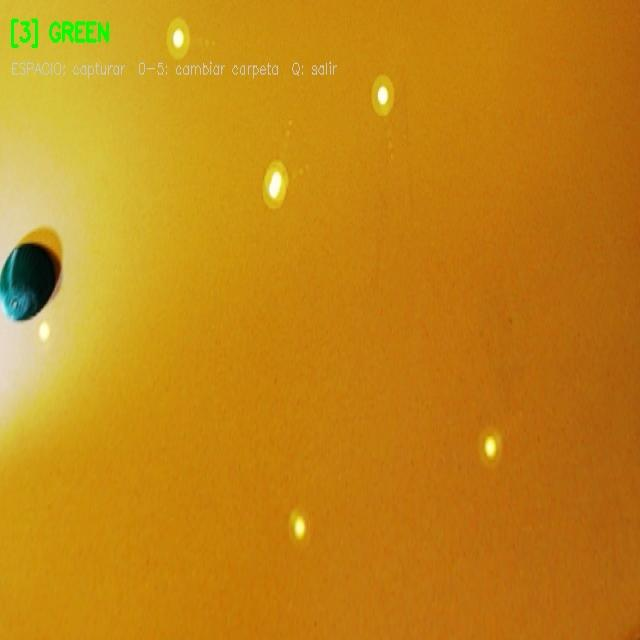green: (0, 236, 61, 325)
